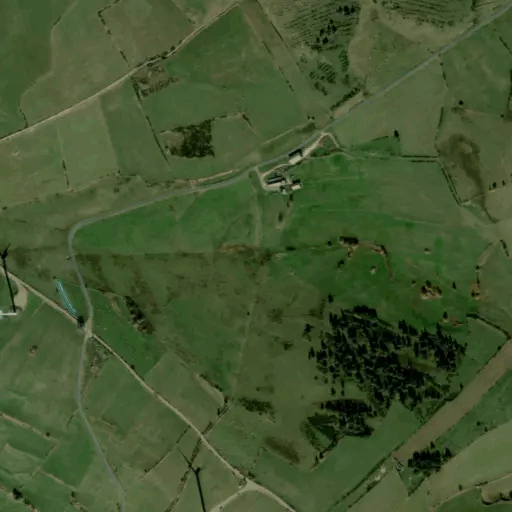wt: (171, 441, 215, 512), (1, 242, 25, 324)
